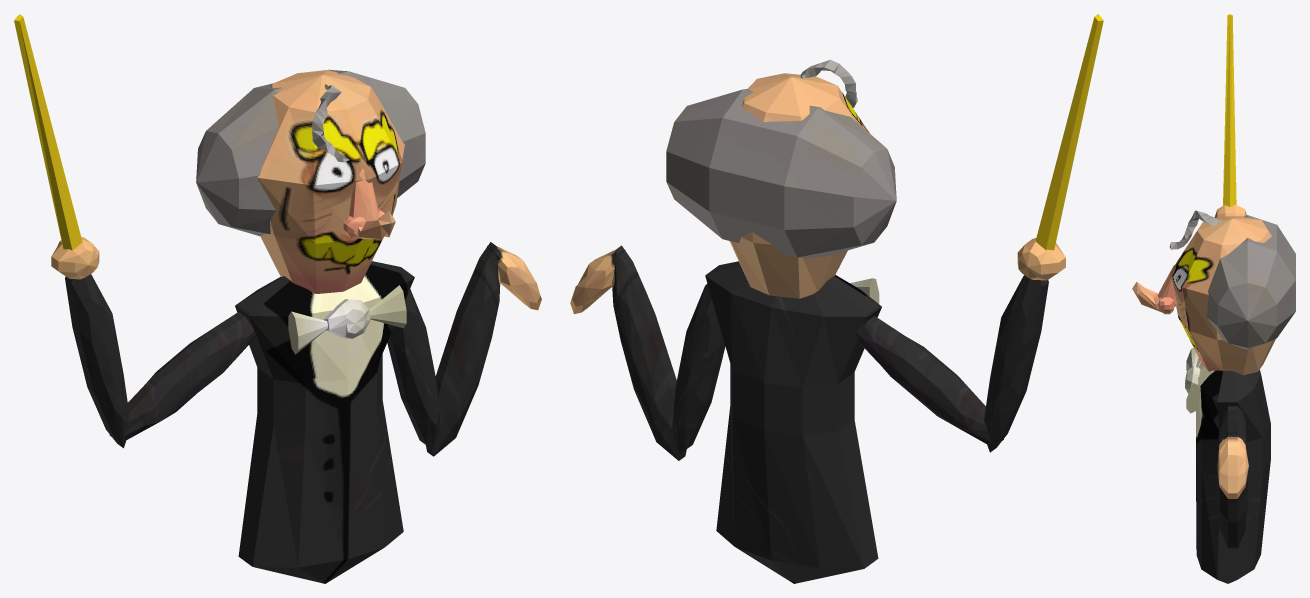
The model's file is Abrasha.glb.
3 views of the same model, side by side, from view 1: azimuth 30°, elevation 25°; view 2: azimuth 150°, elevation 25°; view 3: azimuth 270°, elevation 25° (orthographic). The views are drawn at different scales.
Parts seen in each view (by area): view 1: Abrasha; view 2: Abrasha; view 3: Abrasha.
Part boxes in pixels (<box>): Abrasha: <box>14,14,541,583</box>; Abrasha: <box>570,14,1103,583</box>; Abrasha: <box>1132,14,1295,583</box>.
Size of the model in its own units: 135 by 158 by 50.67.
1 material, 1 textured.
